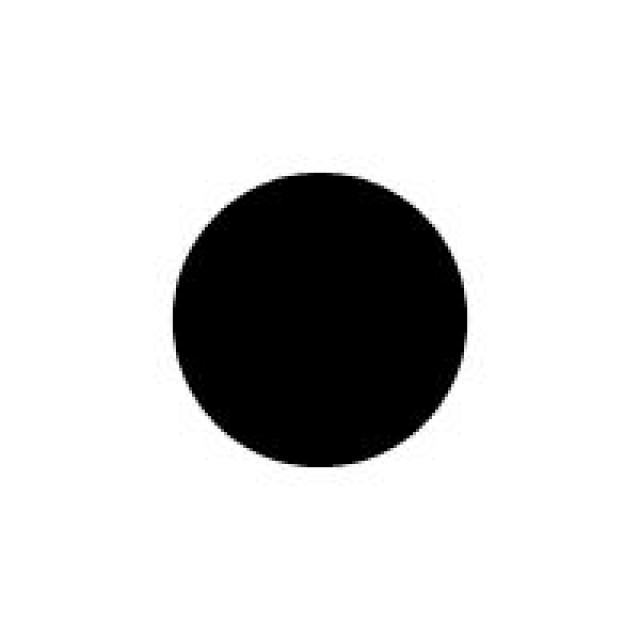Circle: (174, 174, 466, 466)
